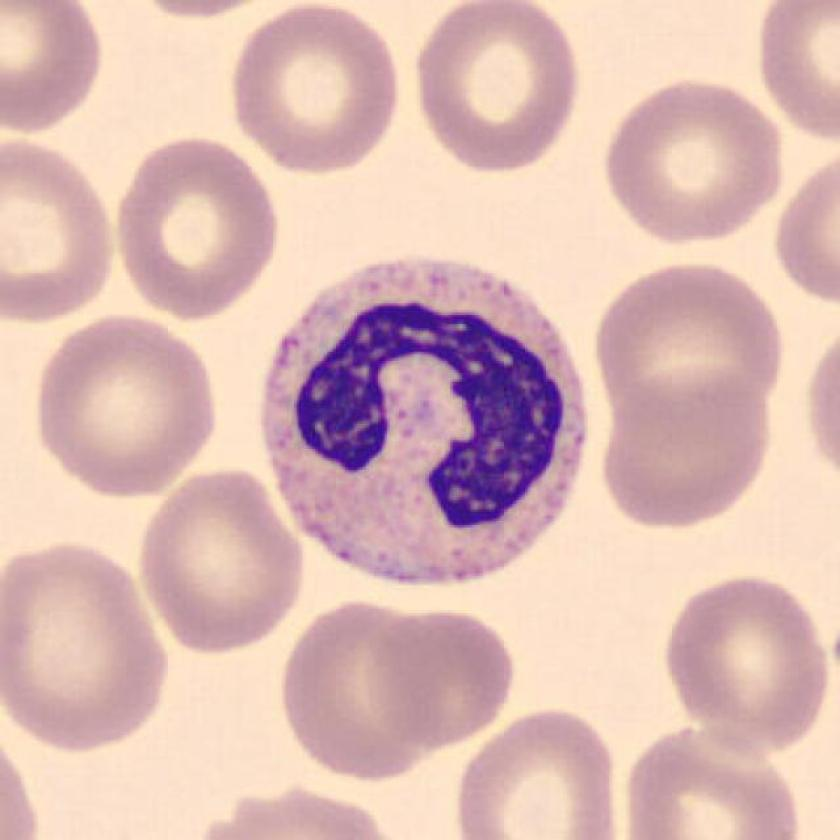neutrophil: (265, 257, 585, 580)
